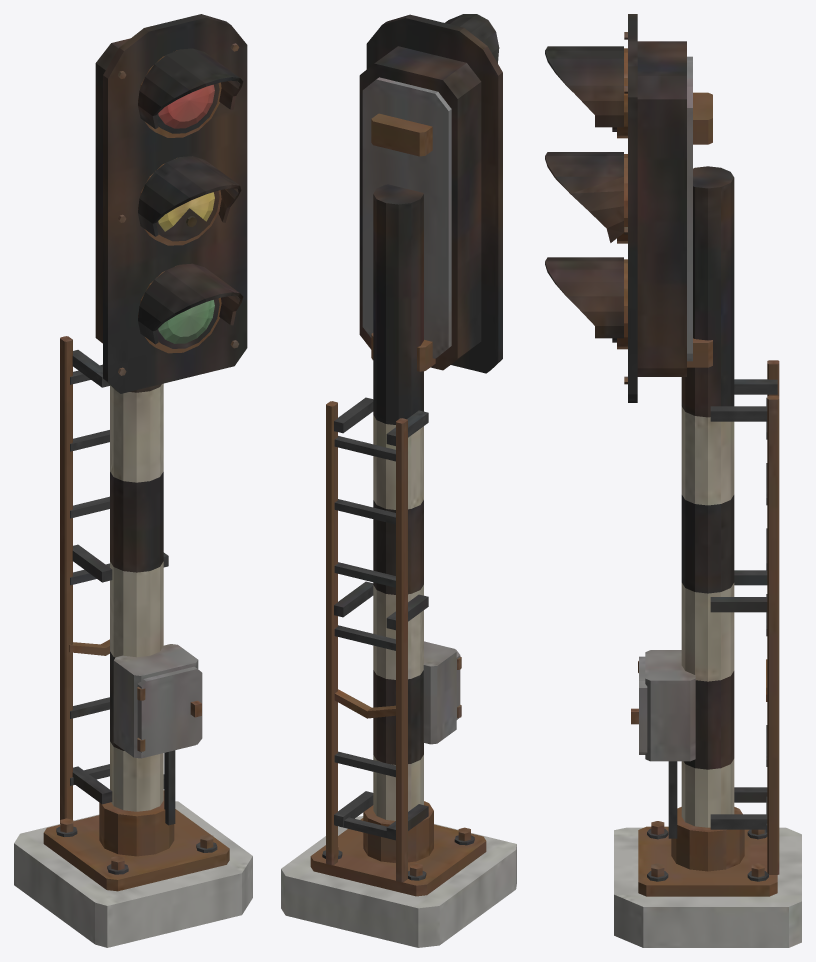
The model's file is RE08_railway_signal.glb.
The picture shows the model from 3 angles, left to right: view 1: azimuth 30°, elevation 25°; view 2: azimuth 150°, elevation 25°; view 3: azimuth 270°, elevation 25°; orthographic projection. The views are drawn at different scales.
Parts seen in each view (by area): view 1: Railway Signal; view 2: Railway Signal; view 3: Railway Signal.
Part boxes in pixels (x1,y1,x2,y2): Railway Signal: (14,14,252,947); Railway Signal: (281,14,516,947); Railway Signal: (545,14,801,947).
Size of the model in its own units: 0.58 by 3 by 0.793.
11 materials, 11 textured.
